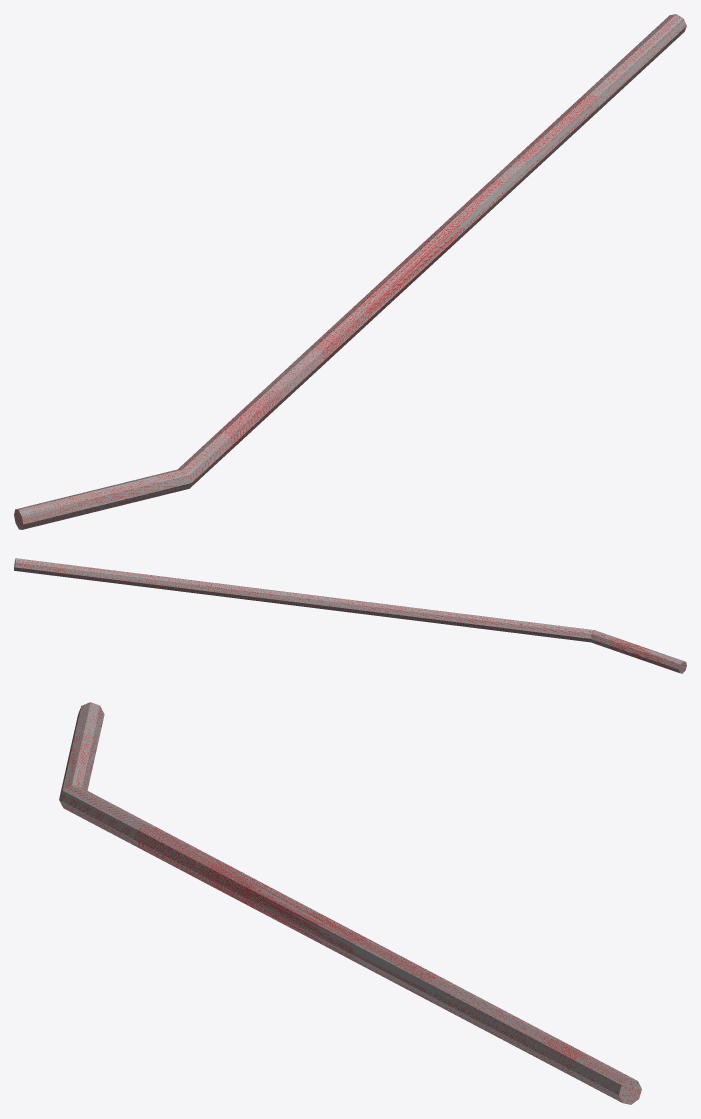
The model's file is original-21.obj.
3 views of the same model, one above another, from view 1: azimuth 30°, elevation 25°; view 2: azimuth 150°, elevation 25°; view 3: azimuth 270°, elevation 25° (orthographic). The views are drawn at different scales.
Parts seen in each view (by area): view 1: mesh21/mesh21-geometry#mesh21-geometry; view 2: mesh21/mesh21-geometry#mesh21-geometry; view 3: mesh21/mesh21-geometry#mesh21-geometry.
Part boxes in pixels (x1,y1,x2,y2): mesh21/mesh21-geometry#mesh21-geometry: (14,14,686,529); mesh21/mesh21-geometry#mesh21-geometry: (14,558,686,673); mesh21/mesh21-geometry#mesh21-geometry: (59,702,641,1104).
Bounding box in the file's own units: 0.3259 × 0.0485 × 0.1532.
